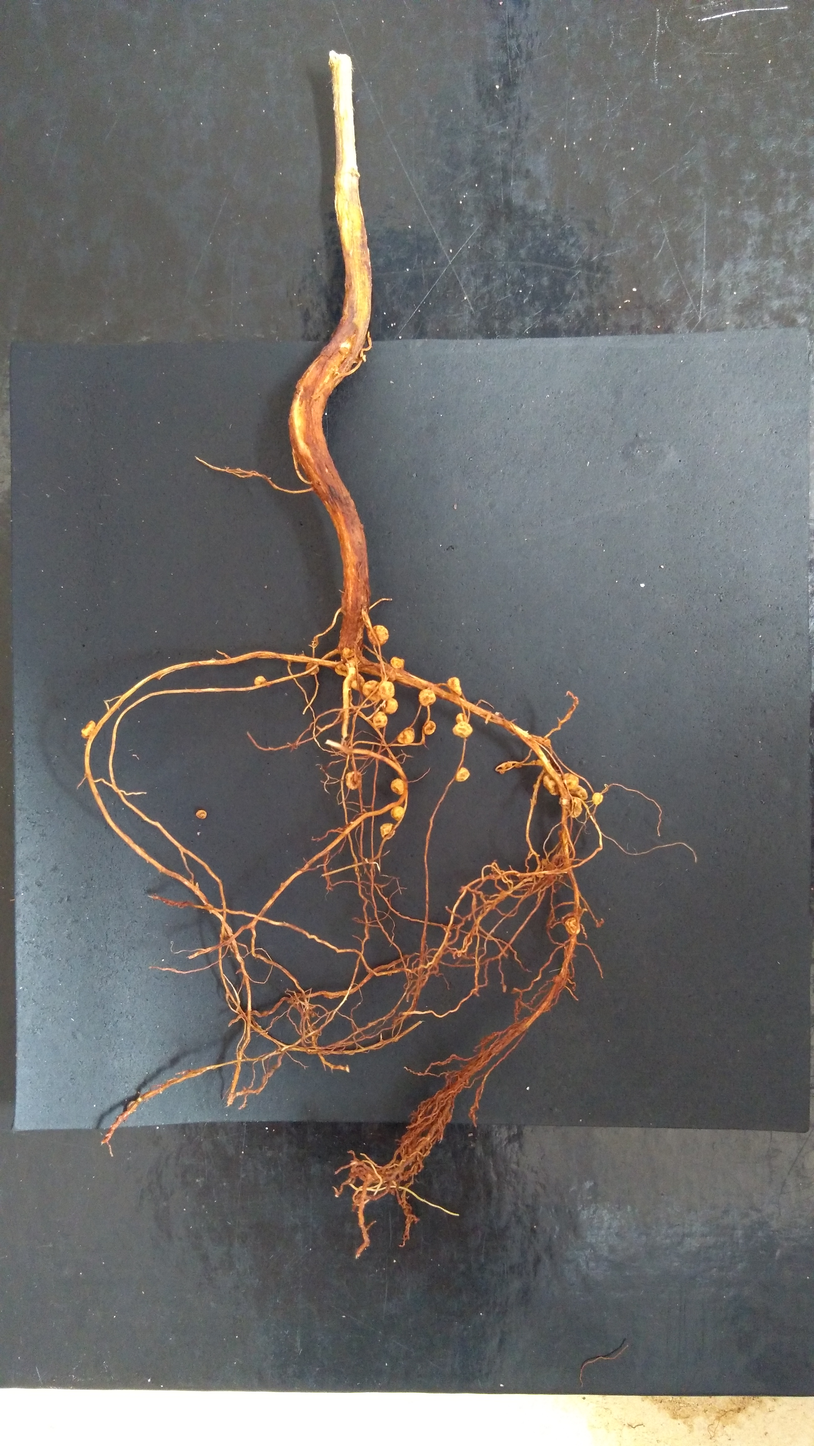nodule: (366, 624, 390, 648), (361, 679, 381, 702), (345, 770, 364, 792), (542, 773, 559, 797), (451, 721, 473, 739), (447, 675, 463, 699), (397, 726, 417, 745), (565, 784, 588, 800), (418, 688, 437, 707), (380, 681, 397, 701), (562, 771, 579, 790), (564, 917, 581, 936), (379, 823, 397, 840), (382, 698, 400, 715), (80, 720, 97, 738), (454, 766, 471, 784), (389, 804, 405, 823), (372, 710, 388, 729), (390, 777, 405, 797), (570, 796, 583, 818), (333, 662, 349, 678), (351, 674, 365, 692), (454, 711, 470, 726), (424, 719, 437, 737), (305, 661, 320, 675), (341, 646, 356, 660), (389, 656, 405, 669), (591, 791, 604, 807), (194, 808, 209, 820), (253, 675, 269, 686), (126, 1099, 139, 1111), (552, 975, 562, 984), (514, 762, 523, 769), (536, 759, 543, 766), (498, 769, 506, 775), (506, 762, 512, 768), (500, 765, 507, 770)
